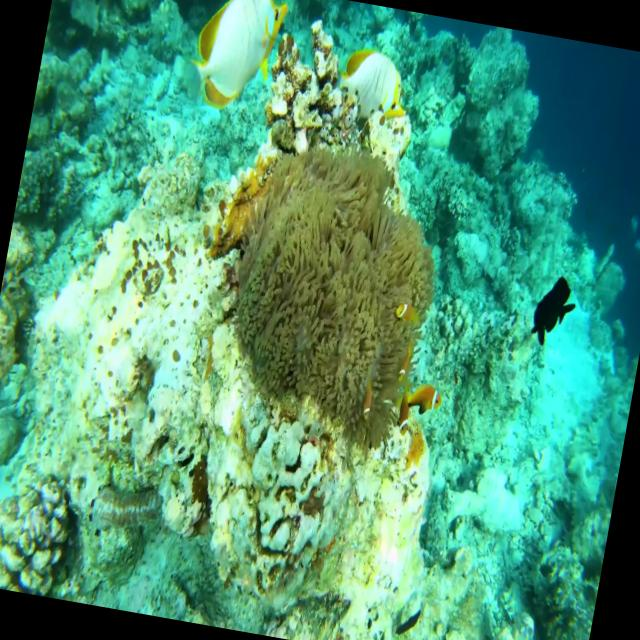fish: (174, 0, 295, 126), (328, 28, 422, 130), (520, 262, 584, 362), (394, 358, 456, 437)
